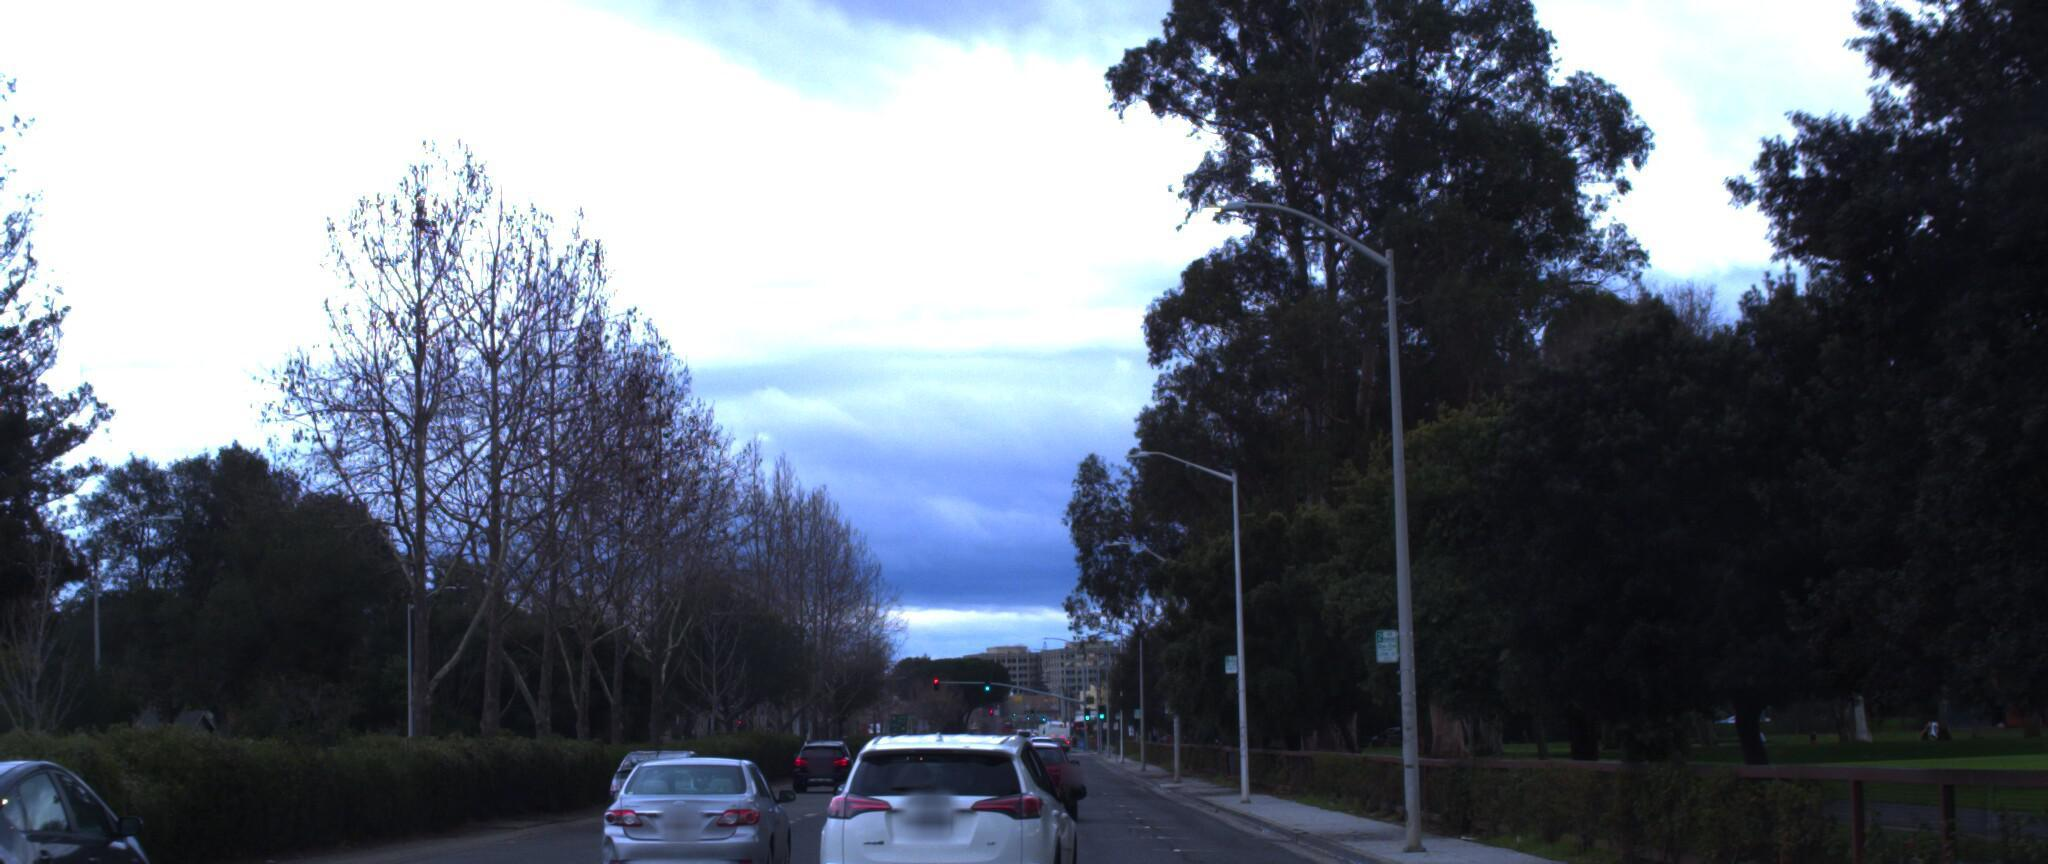car: (798, 717, 1083, 864), (590, 748, 795, 864), (0, 760, 178, 864)
